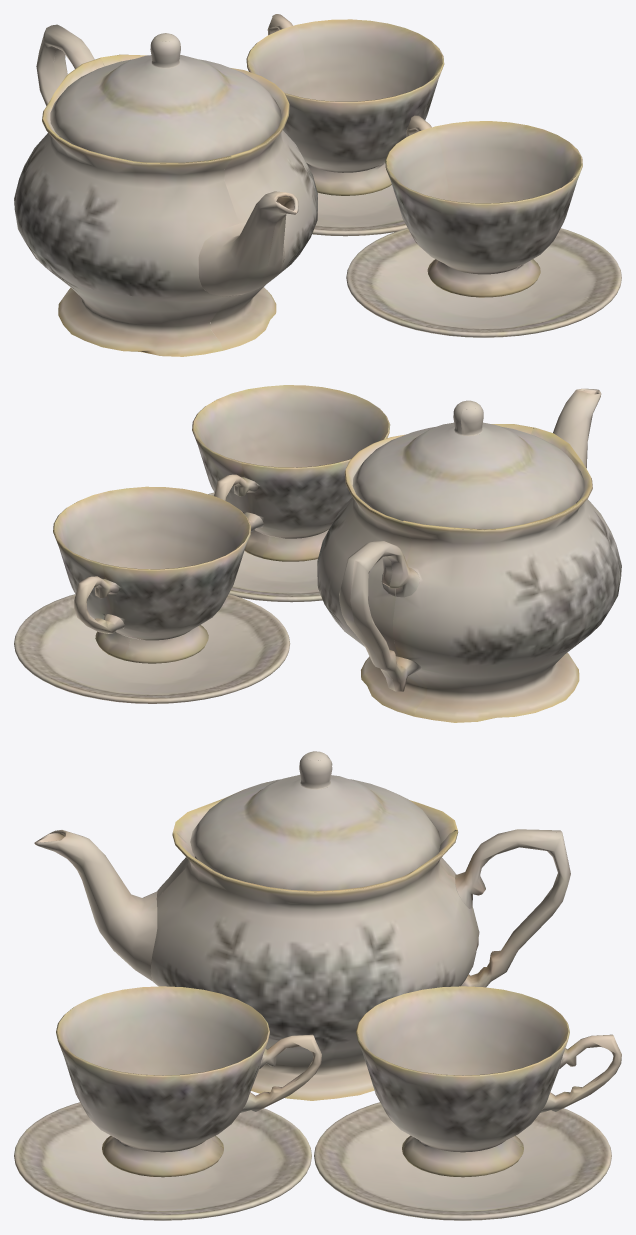
File: tea.glb
The picture shows the model from 3 angles, top to bottom: view 1: azimuth 30°, elevation 25°; view 2: azimuth 150°, elevation 25°; view 3: azimuth 270°, elevation 25°; orthographic projection. The views are drawn at different scales.
Parts seen in each view (by area): view 1: tea_set_01_cup_small_01; view 2: tea_set_01_cup_small_01; view 3: tea_set_01_cup_small_01.
Boxes of the visible parts, <box> form: tea_set_01_cup_small_01: <box>14,14,621,356</box>; tea_set_01_cup_small_01: <box>14,385,621,722</box>; tea_set_01_cup_small_01: <box>14,751,621,1220</box>.
Size of the model in its own units: 0.3118 by 0.1649 by 0.304.
1 material, 1 textured.
